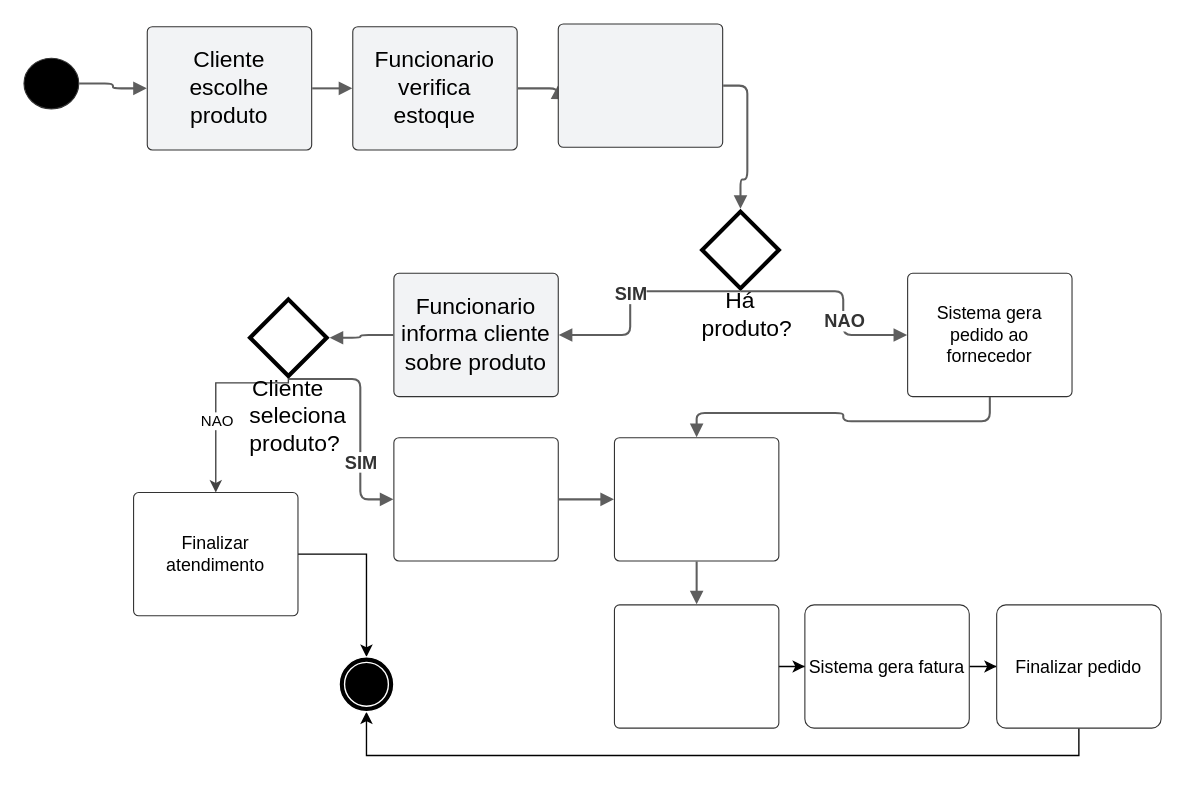
Some shapes in this 1185 by 790 pixel diagram are drawn without their labels. The shapes that lost their labels are listed below. From the top down, each one's centre as x and y in pixels, then its label:
At (x=640, y=85): "Sistema consulta estoque".
At (x=475, y=498): "Cliente gera pedido".
At (x=696, y=498): "Sistema atualiza estoque".
At (x=696, y=666): "Sistema reserva produto para cliente".
